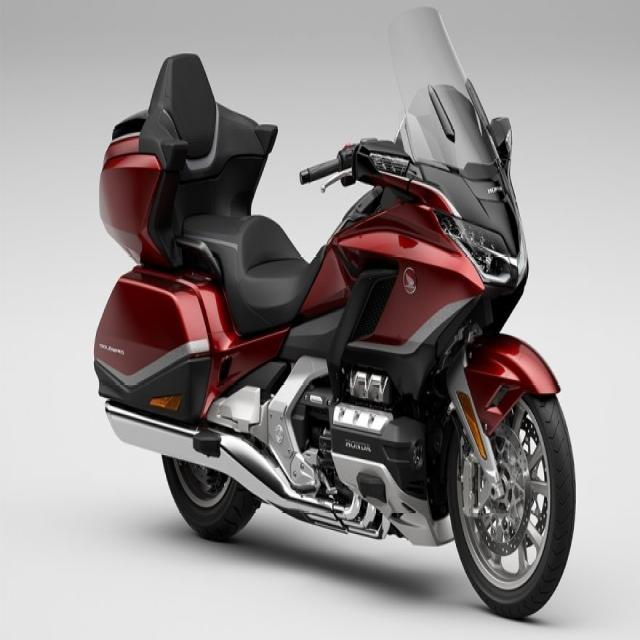Bike: (92, 9, 579, 623)
